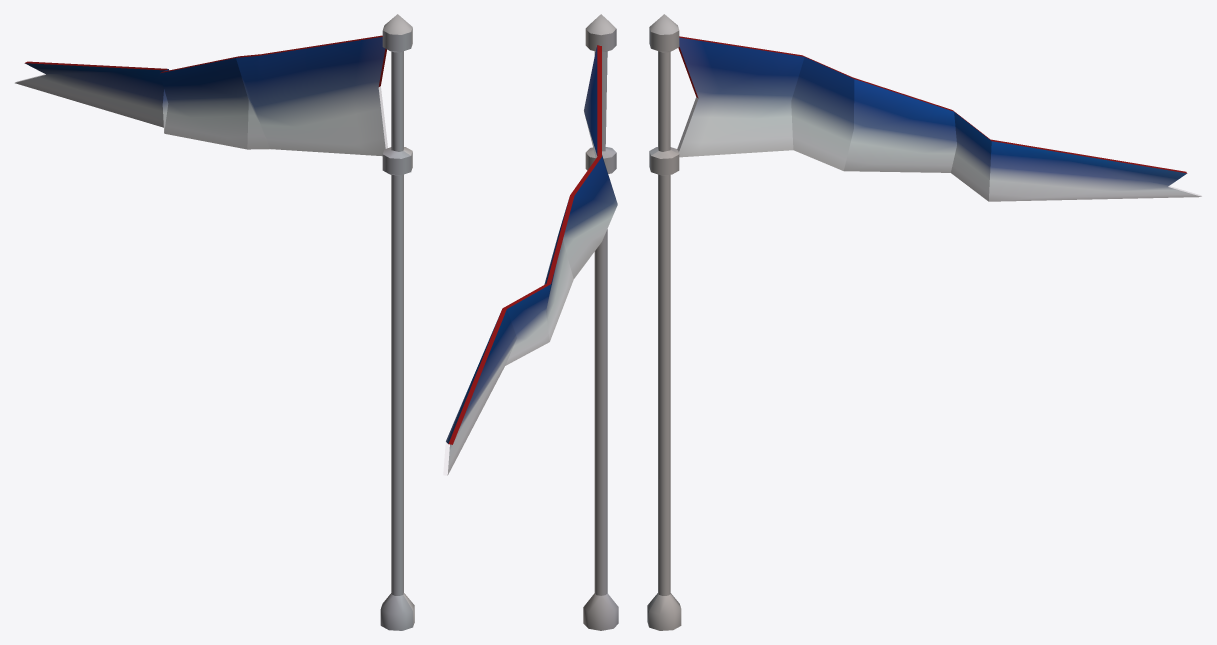
The model's file is castle-flag-blue.lod1.glb.
3 renders of one model, left to right at view 1: azimuth 30°, elevation 25°; view 2: azimuth 150°, elevation 25°; view 3: azimuth 270°, elevation 25°, orthographic.
Visible parts, largest first — view 1: Castle-flag-blue_Texture-base_0; view 2: Castle-flag-blue_Texture-base_0; view 3: Castle-flag-blue_Texture-base_0.
Boxes of the visible parts, x1,y1,x2,y2 form: Castle-flag-blue_Texture-base_0: (15,14,414,630); Castle-flag-blue_Texture-base_0: (443,14,618,630); Castle-flag-blue_Texture-base_0: (647,14,1202,630).
Size of the model in its own units: 1.34 by 6 by 4.95.
1 material, 1 textured.
